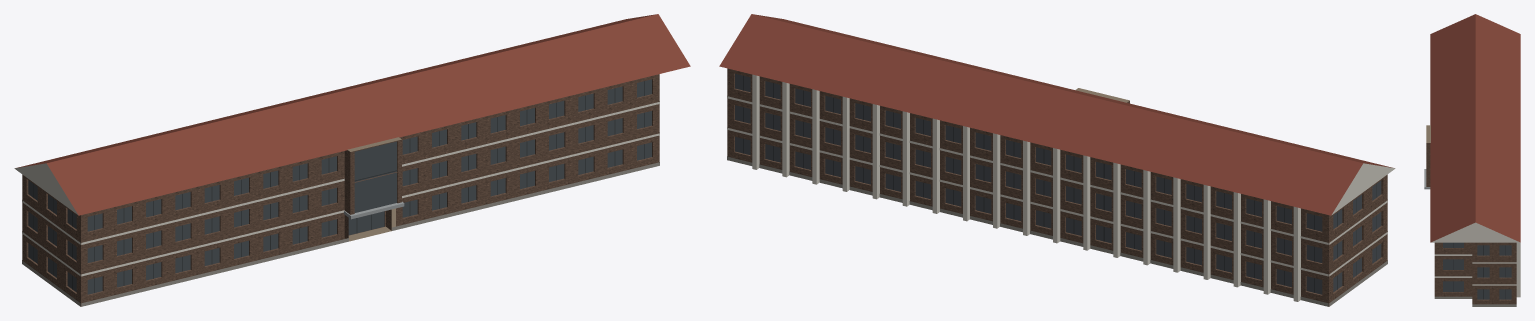
The picture shows the model from 3 angles, left to right: view 1: azimuth 30°, elevation 25°; view 2: azimuth 150°, elevation 25°; view 3: azimuth 270°, elevation 25°; orthographic projection. The views are drawn at different scales.
Parts seen in each view (by area): view 1: baekma__wall, baekma__roofAccent, baekma__glass, baekma__trim, baekma__base, baekma__frame, baekma__roof; view 2: baekma__roofAccent, baekma__wall, baekma__trim, baekma__glass, baekma__base, baekma__frame; view 3: baekma__roofAccent, baekma__wall, baekma__trim, baekma__glass, baekma__base, baekma__frame, baekma__roof.
Boxes of the visible parts, box(x1,y1,x2,y2) form: baekma__wall: box(22, 74, 659, 306); baekma__roofAccent: box(15, 14, 690, 215); baekma__glass: box(28, 79, 651, 294); baekma__trim: box(14, 101, 659, 276); baekma__base: box(22, 162, 659, 306); baekma__frame: box(33, 81, 644, 293); baekma__roof: box(347, 137, 401, 241); baekma__roofAccent: box(719, 14, 1394, 215); baekma__wall: box(727, 68, 1387, 306); baekma__trim: box(727, 74, 1395, 301); baekma__glass: box(735, 73, 1381, 294); baekma__base: box(727, 156, 1387, 306); baekma__frame: box(743, 75, 1376, 292); baekma__roofAccent: box(1430, 14, 1520, 242); baekma__wall: box(1426, 143, 1516, 304); baekma__trim: box(1431, 222, 1520, 297); baekma__glass: box(1443, 242, 1511, 299); baekma__base: box(1434, 296, 1516, 306); baekma__frame: box(1453, 243, 1505, 299); baekma__roof: box(1426, 125, 1430, 142).
Bounding box in the file's own units: 71.15 × 13.72 × 13.92.
Materials: 9 (1 with a texture image).
